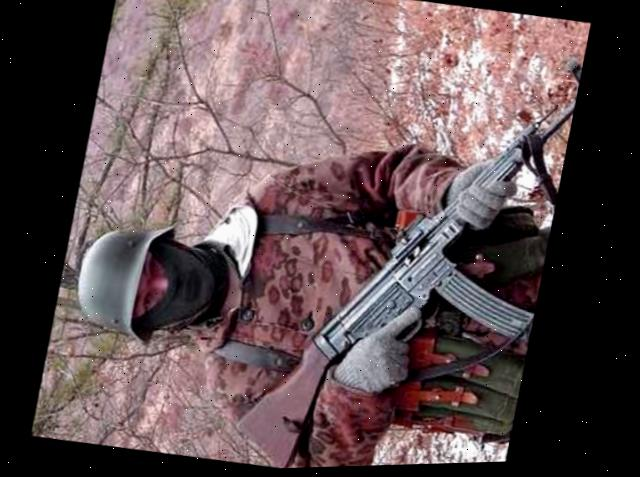rifle: (220, 13, 586, 472)
